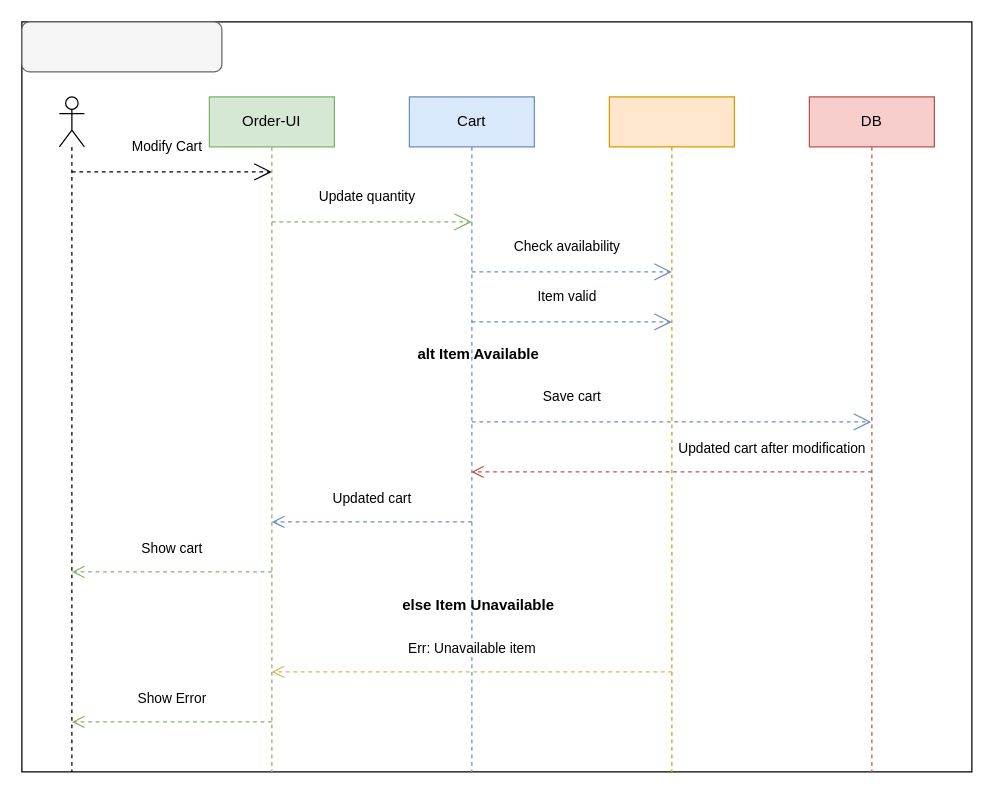
Image size: 994x794. Some labels were removed from this diagram. The box of each missing label's shape, as (x1, y1, x2, y2) in pixels:
Menu: (608, 96, 734, 772)
Modify Cart - Use Case: (21, 21, 222, 72)
